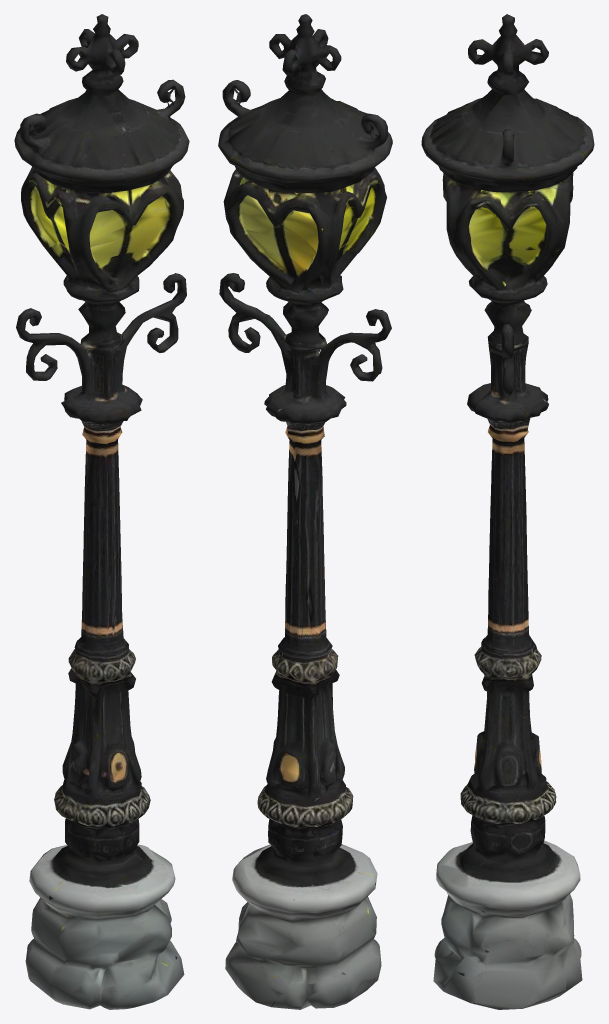
Rendered from prop-lamp.glb.
3 views of the same model, side by side, from view 1: azimuth 30°, elevation 25°; view 2: azimuth 150°, elevation 25°; view 3: azimuth 270°, elevation 25° (orthographic).
Size of the model in its own units: 0.351 by 1.91 by 0.3099.
1 material, 1 textured.
